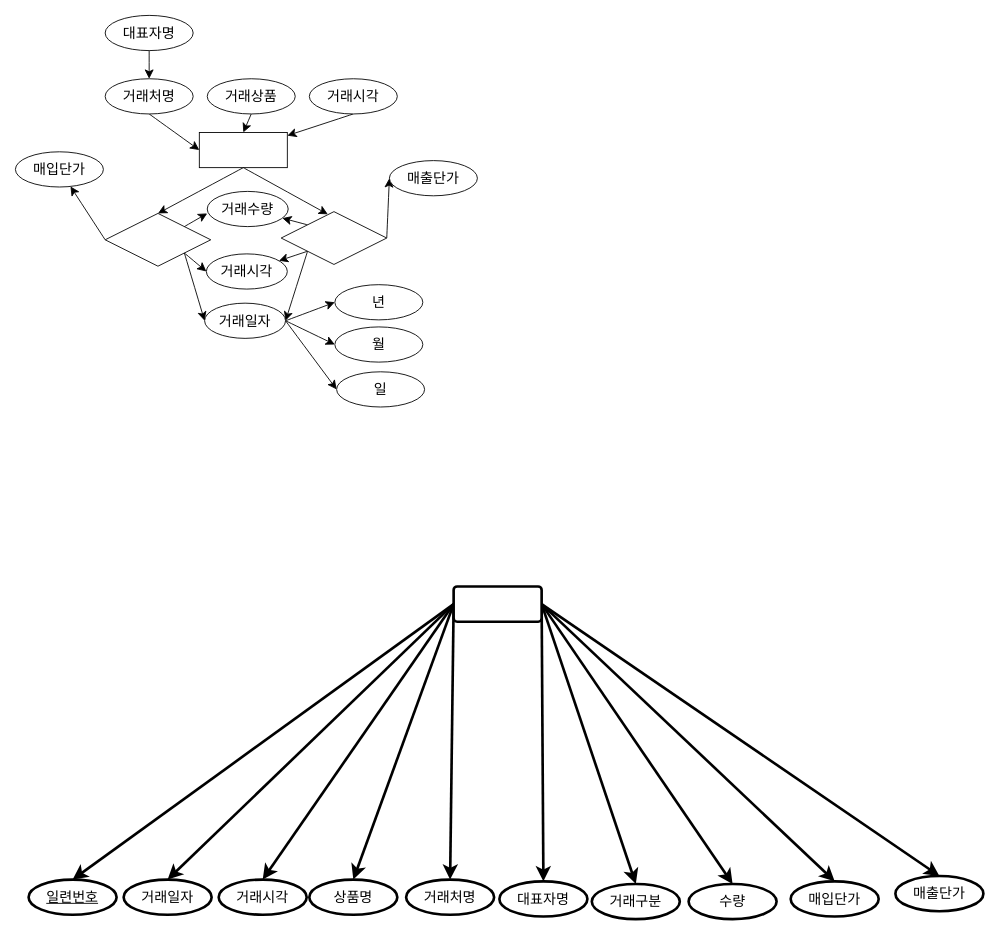
The diagram is 1000 pixels wide and 935 high, and some of its shapes have lost their labels. Each missing label, with the centre of its shape:
"거래처" belongs at [242,150].
"구입" belongs at [157,239].
"매입매출" belongs at [497,604].
"판매" belongs at [333,237].
